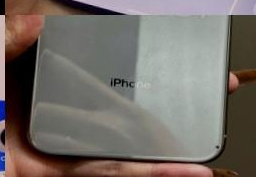scratch: (205, 137, 227, 152)
